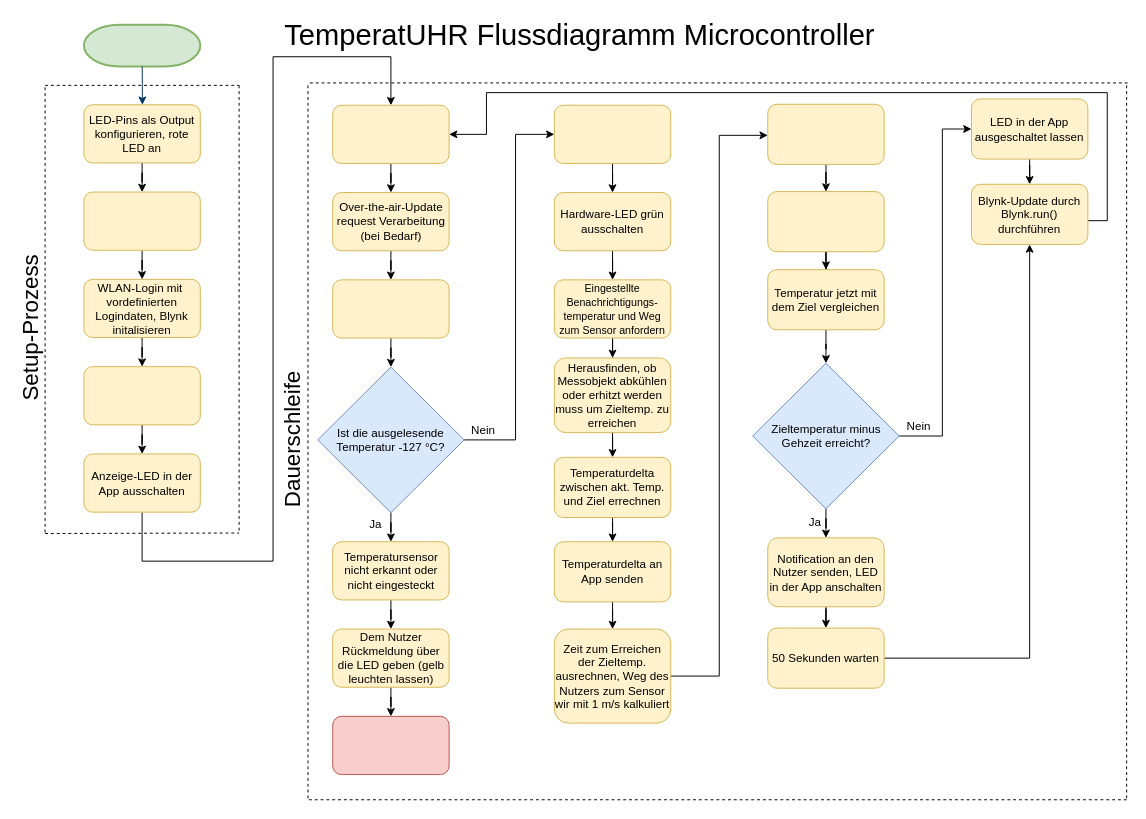
The diagram is 1146 pixels wide and 819 high, and some of its shapes have lost their labels. Each missing label, with the centre of its shape:
Hardware-LED grün ein: [390,133]
in den Lademodus gehen: Abschaltung der LED, nur OTA weiter verarbeiten: [390,745]
Over-the-air Update- dienst initalisieren und rote LED aus: [141,395]
Start des Microcontrollers: [141,45]
Temperatur vom Sensor neu anfordern: [825,221]
Temperaturanstieg beobachten für eine Sekunde, Ergebnis als "float" speichern: [612,133]
Temperaturdaten anfordern und in Celsius speichern: [390,308]
Temperatursensor Kommunikation beginnen: [141,220]
Zeit und aktuelle Temperatur an die App senden: [825,133]
